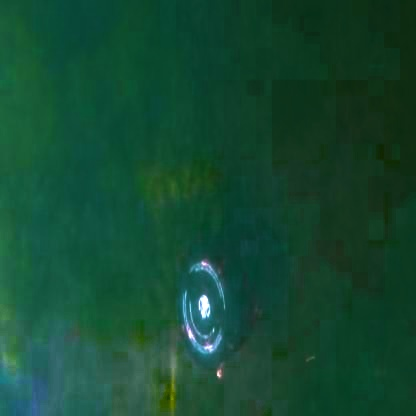can: (156, 146, 294, 378)
